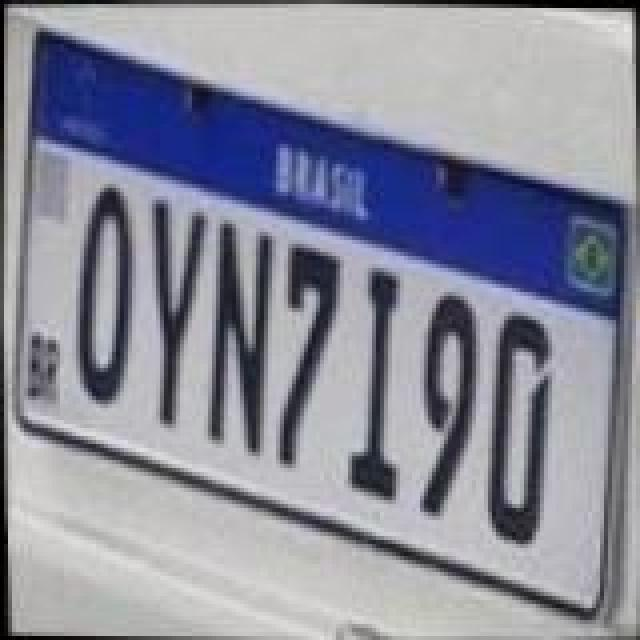7: (270, 240, 350, 468)
9: (410, 288, 486, 520)
D: (478, 314, 562, 550)
I: (342, 266, 410, 506)
N: (200, 216, 284, 456)
O: (70, 184, 142, 408)
Y: (148, 196, 216, 428)
